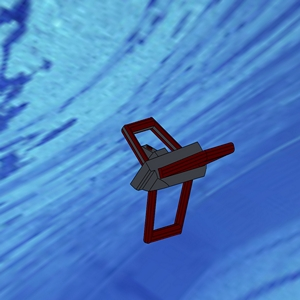submarine: (99, 89, 247, 262)
